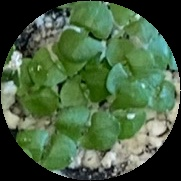Basil: (63, 1, 108, 58), (12, 66, 56, 119), (107, 45, 153, 93), (22, 127, 74, 169), (29, 38, 78, 81), (61, 68, 109, 110), (68, 108, 117, 148), (142, 68, 175, 110), (113, 90, 141, 135), (109, 32, 135, 65)
